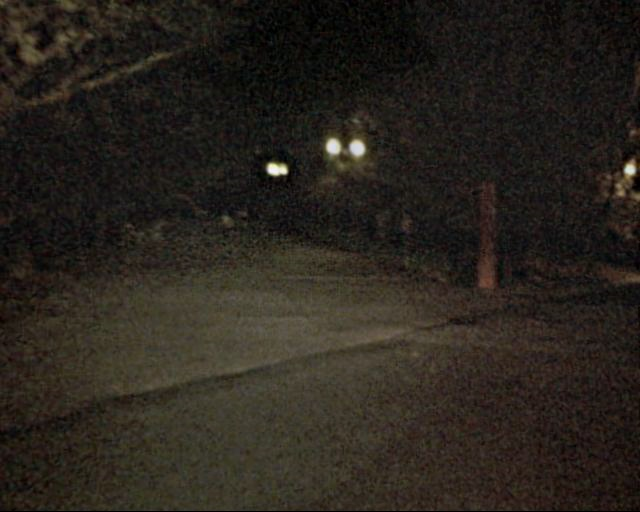person: (216, 207, 236, 255)
